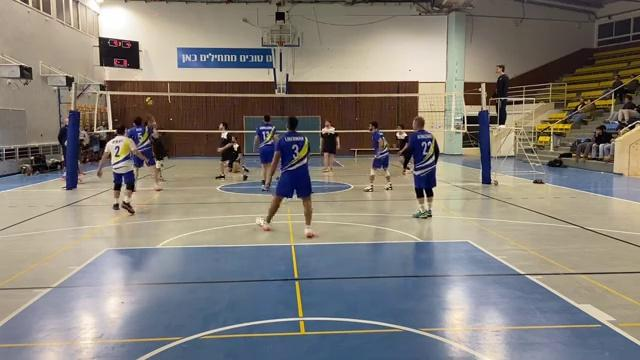ball: (145, 94, 154, 106)
